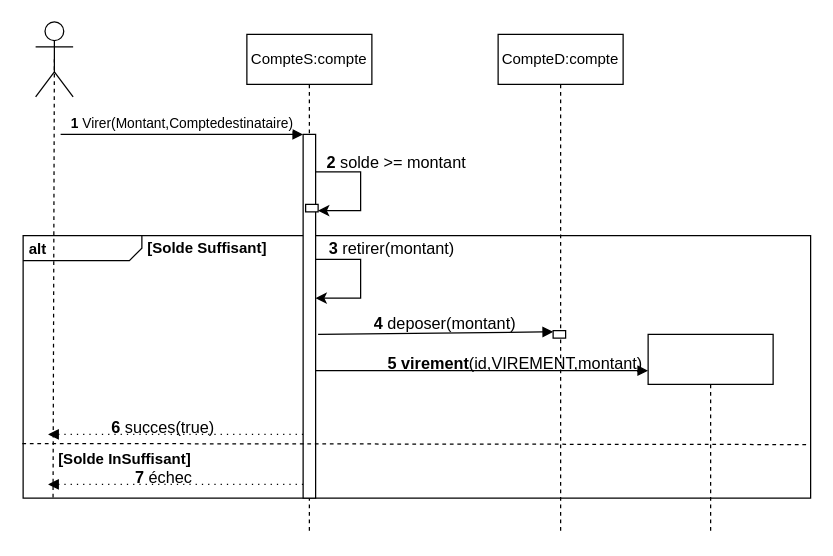
The diagram is 833 pixels wide and 556 high, and some of its shapes have lost their labels. Here are the shapes that lost their labels. From the top down, the box of each, then its label:
(34, 21, 73, 97): Client
(647, 333, 773, 534): Trans:Transaction
